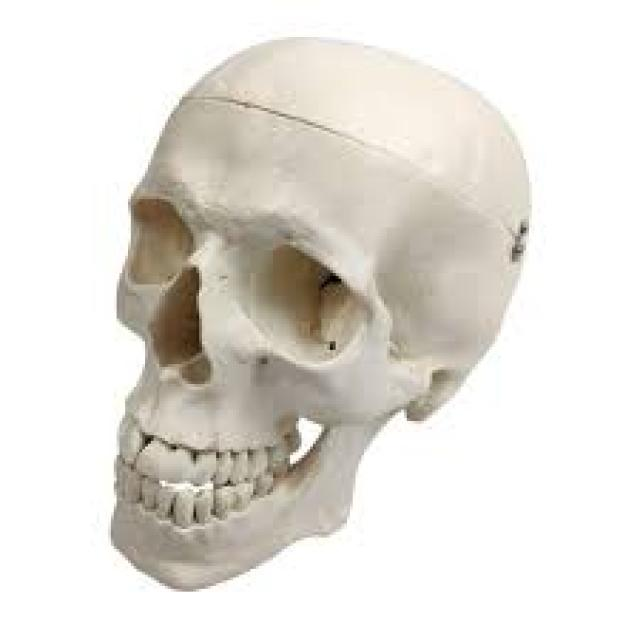skull: (99, 29, 532, 585)
